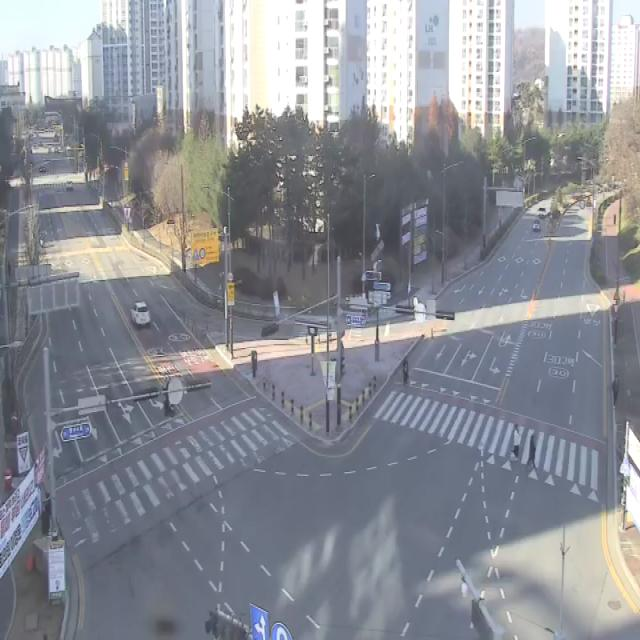Car: (130, 302, 151, 329)
